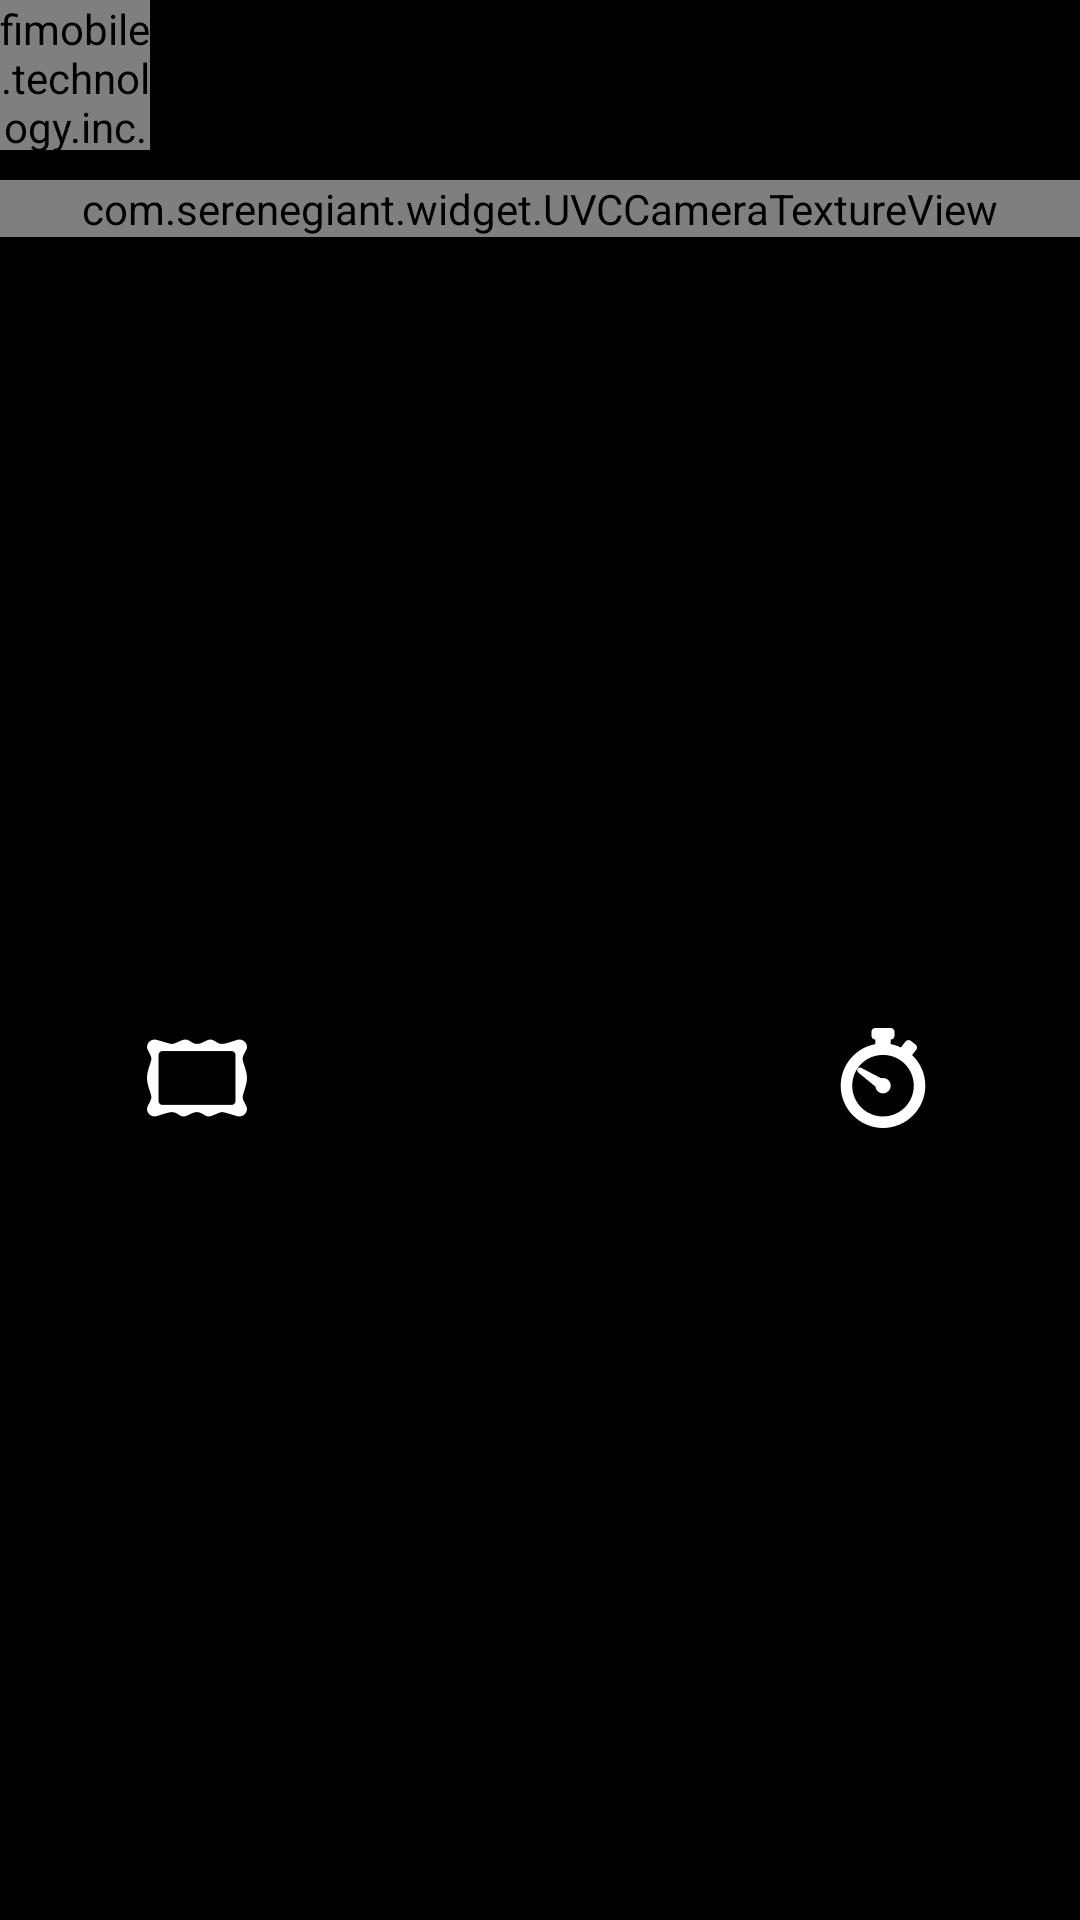

Where to tap for icons on this 1080 × 1920 app screen, as (x,y):
camerakiosk pictureframe: (197,1078)
camerakiosk timer: (883,1078)
